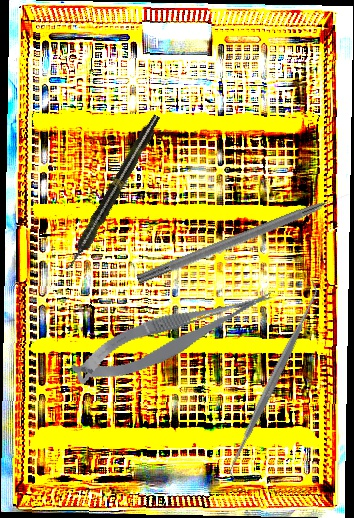Handpiece: (61, 112, 164, 274)
Hook Surgical: (135, 188, 353, 288)
Micro Scissor: (63, 282, 284, 392)
Spatula Surgical: (215, 276, 332, 483)
